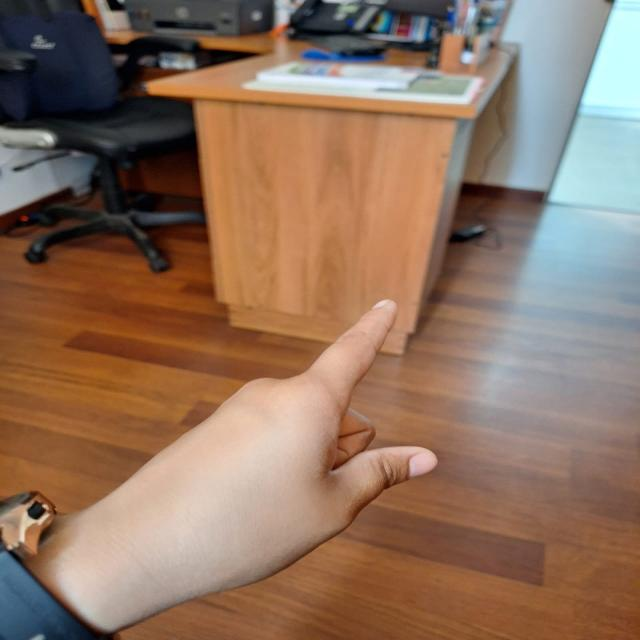X: (103, 279, 455, 610)
